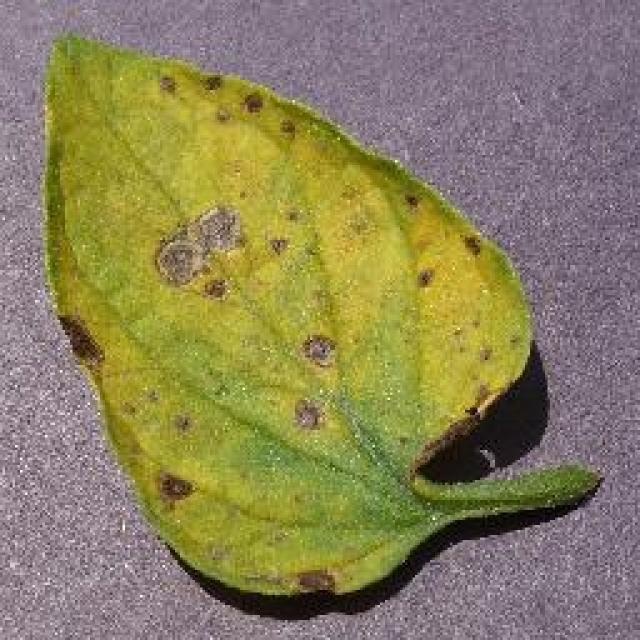Tomato Septoria spot leaf: (41, 28, 536, 597)
